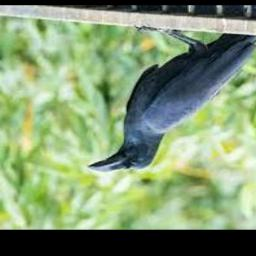Crow: (87, 6, 256, 173)
